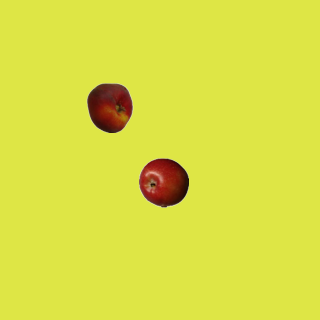Apple Braeburn: (138, 157, 188, 207)
Nectarine Flat: (84, 82, 134, 132)
